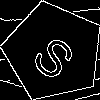S: (28, 27, 85, 84)
